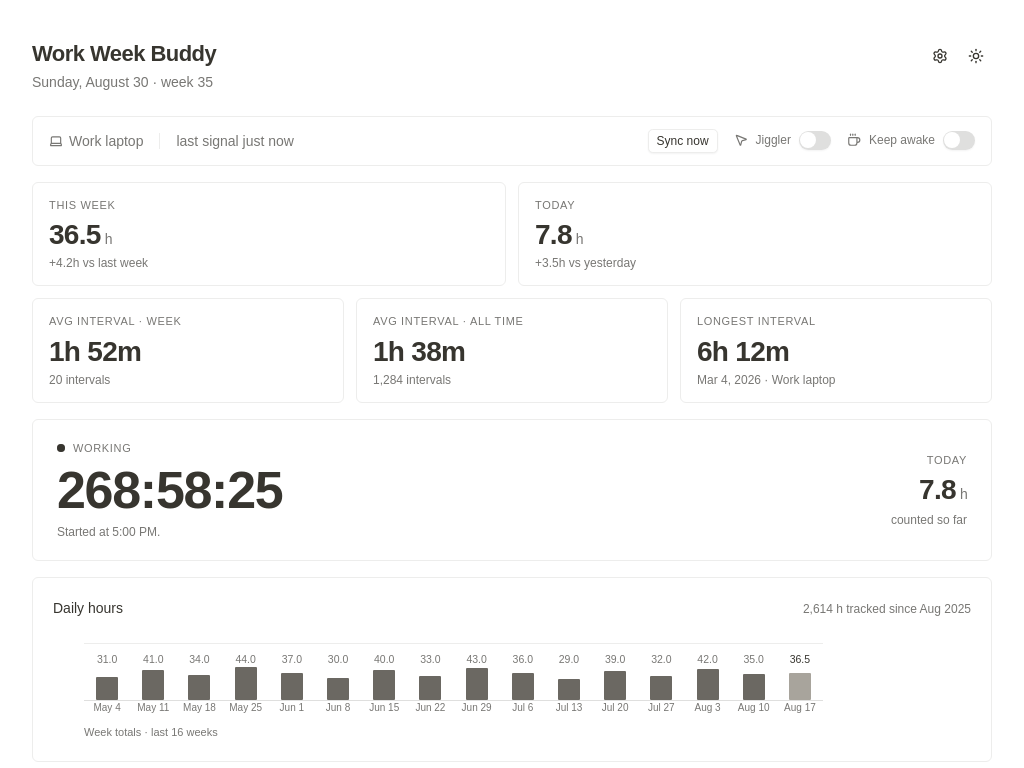
what it says when it worked › does not claim to have sent anything when there was nothing waiting
The width and height of the screenshot is (1024, 768).
Click the button "Sync now". click: (683, 140)
box: x1=648 y1=128 x2=718 y2=152
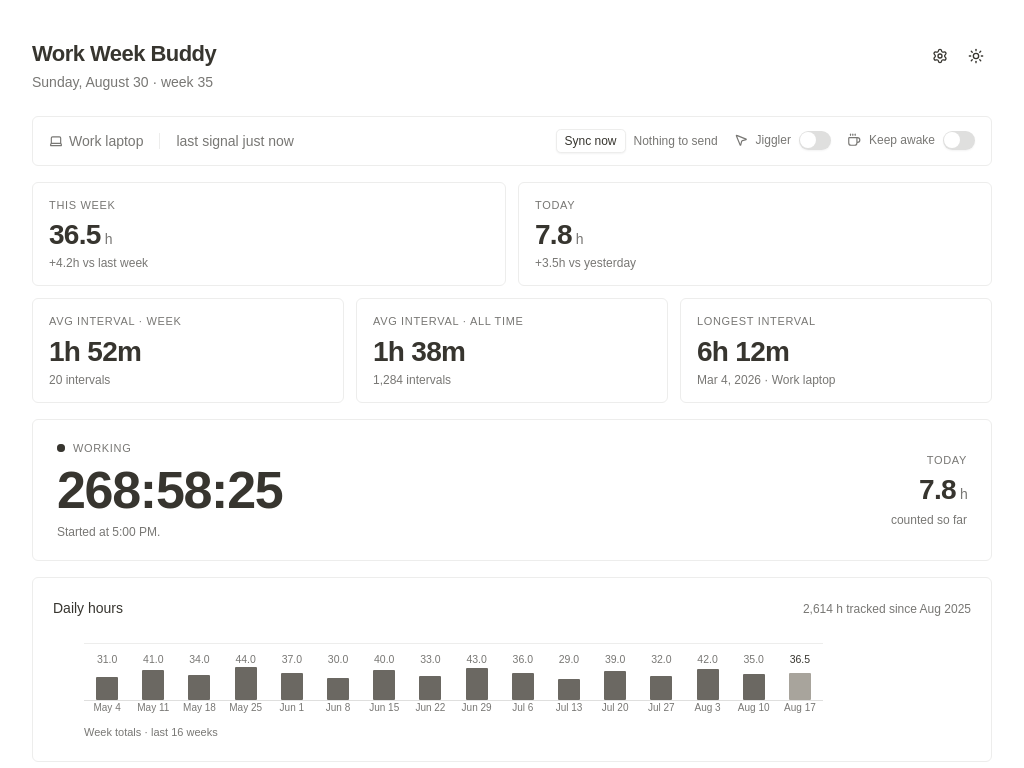
Result: the message "Nothing to send" is shown at x1=634 y1=132 x2=718 y2=148
